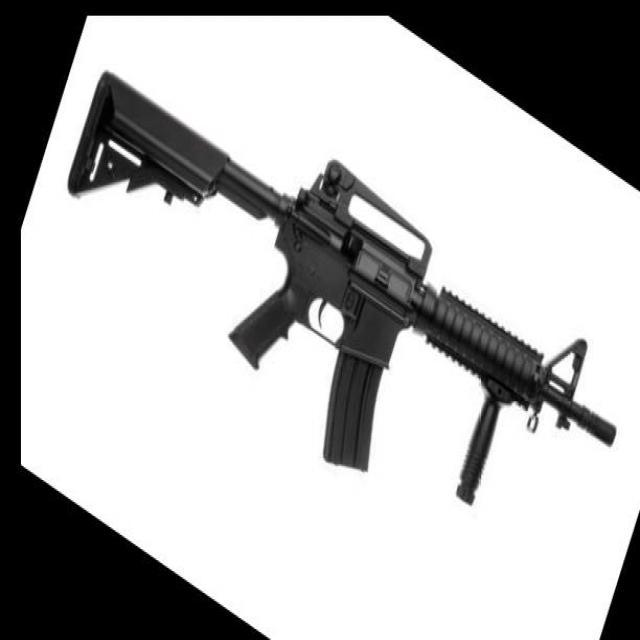weapon: (67, 69, 618, 508)
